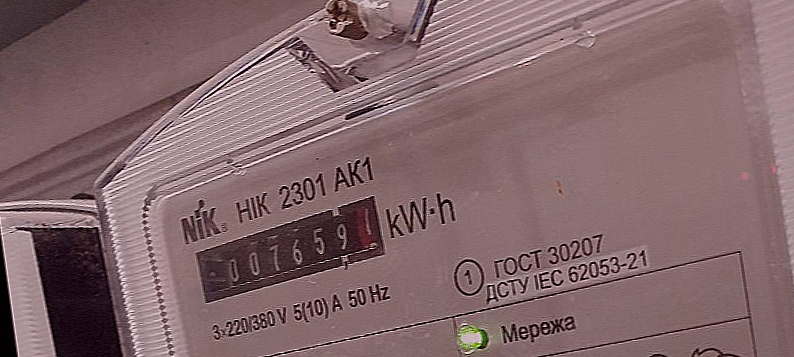0: (224, 254, 241, 284), (245, 250, 261, 278)
1: (358, 207, 374, 239)
5: (308, 225, 327, 259)
6: (287, 236, 304, 268)
7: (265, 241, 283, 274)
9: (332, 219, 351, 255)
screen: (176, 187, 408, 312)
